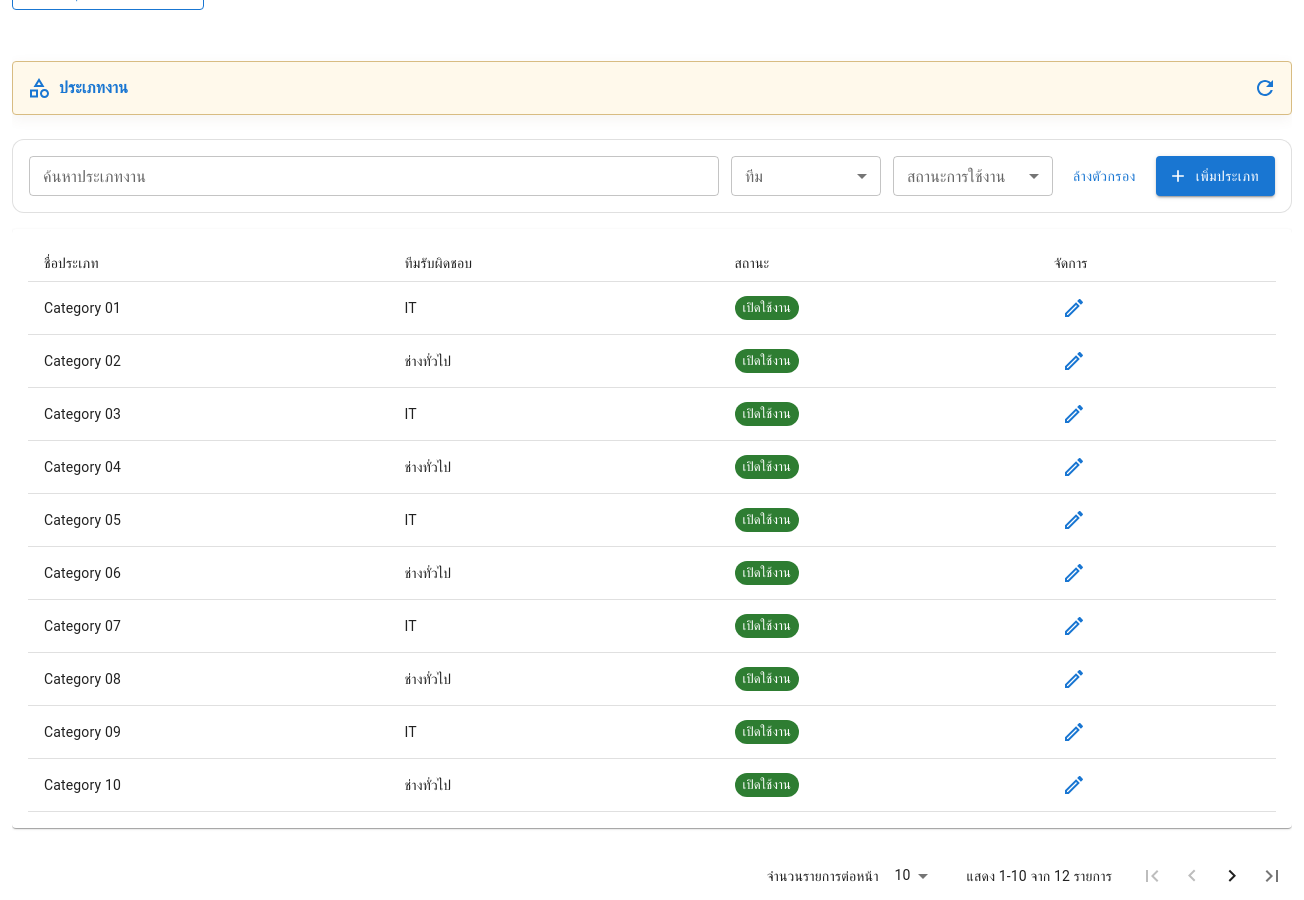
Test: repair settings › paginates filtered categories for both table and mobile card layouts
(page scrolled)
Expected: the text "Category 01" is shown, [28, 282, 388, 334]
Expected: the text "Category 10" is shown, [28, 758, 388, 812]
Click the button named "ไปหน้าถัดไป" at (1232, 876), box [1212, 856, 1252, 896]
(page scrolled)
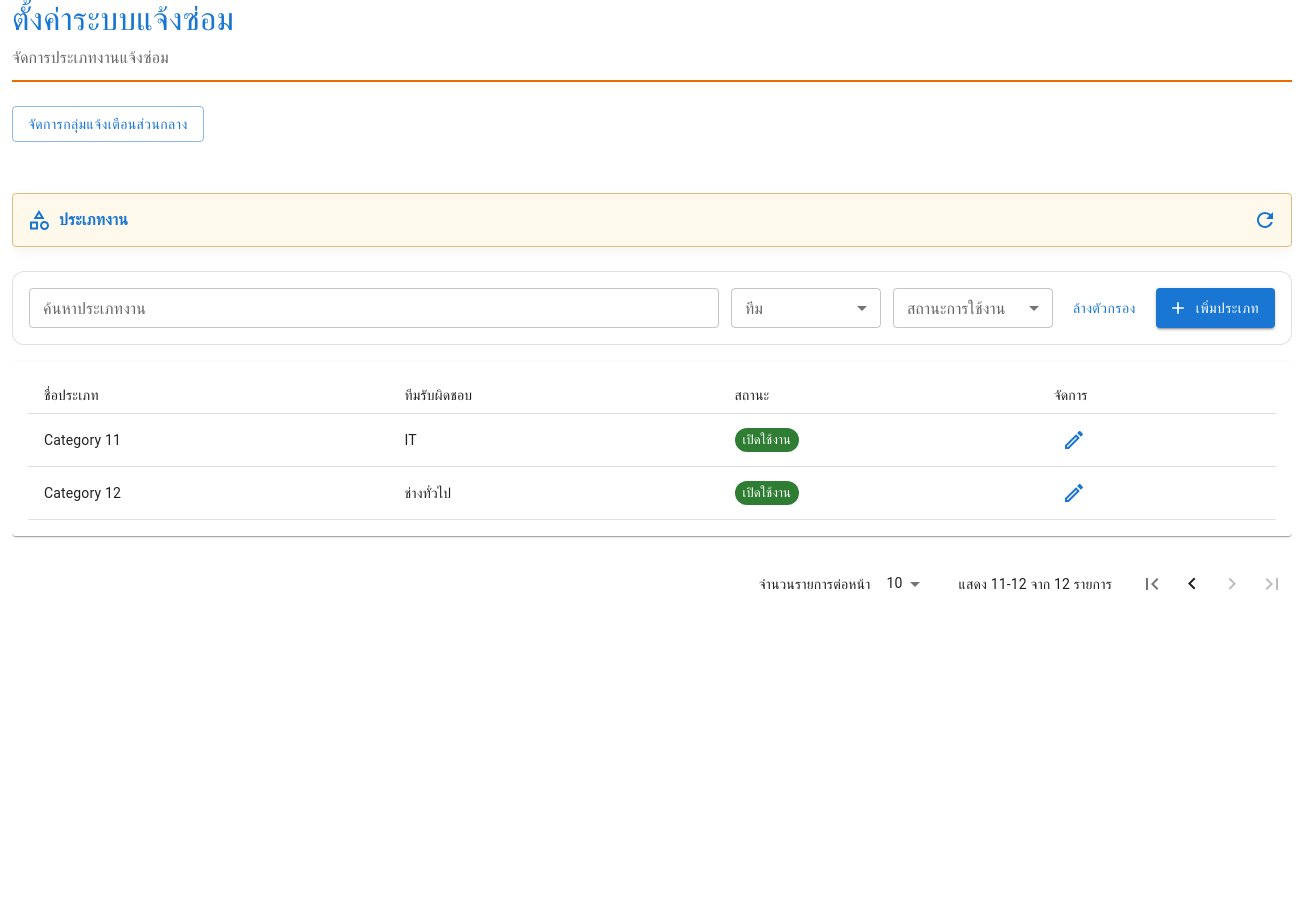
Expected: the text "Category 11" is shown, [28, 414, 388, 466]
Expected: the text "Category 01" is gone
Type "Category 01" into the field labelled "ค้นหาประเภทงาน" at (374, 308), box [29, 288, 719, 328]
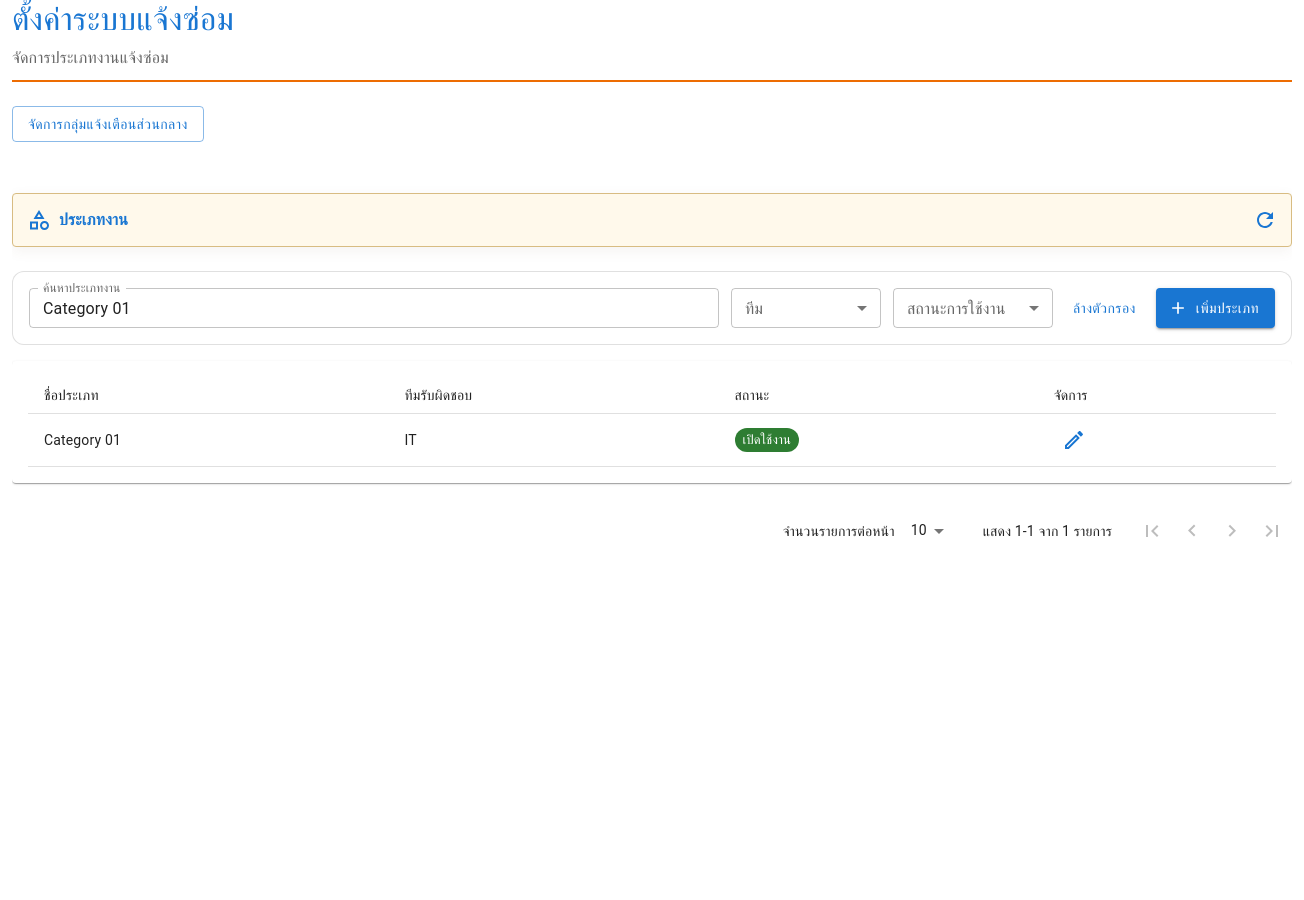
Expected: the text "Category 01" is shown, [28, 414, 388, 466]
Expected: the text "แสดง 1-1 จาก 1 รายการ" is shown, [983, 521, 1112, 541]
